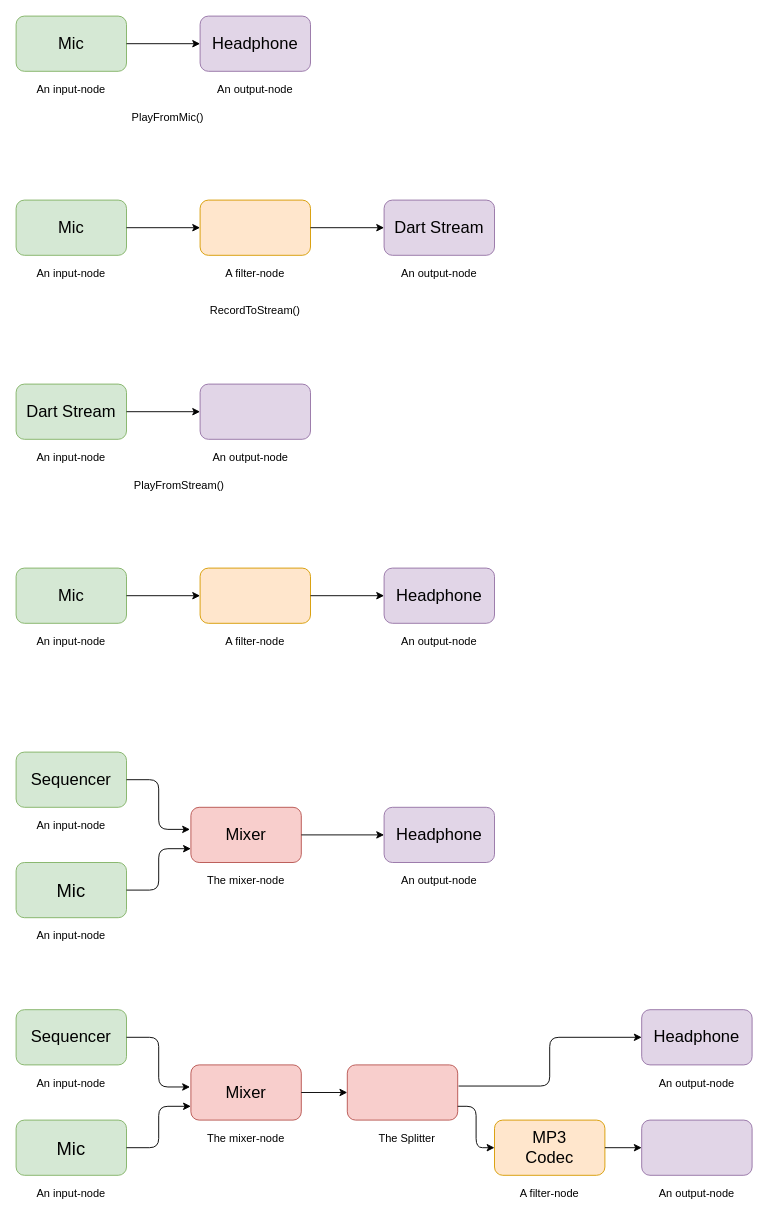
This 768x1219 diagram has some shape labels left out. The centre of each missing label's shape, as x and y in pixels:
"Equalizer" belongs at point 254,595.
"Output File" belongs at point 696,1147.
"PCM-INT16 Codec" belongs at point 254,227.
"Speaker" belongs at point 254,411.
"Splitter" belongs at point 402,1092.
